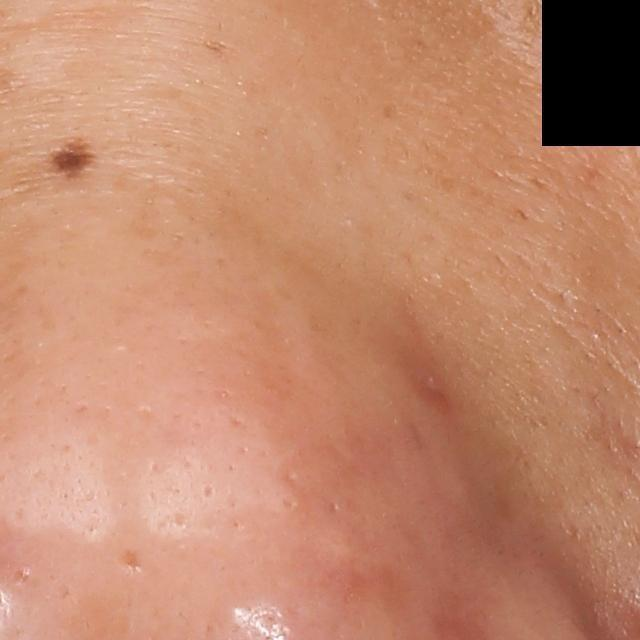atrophic_scar: (116, 548, 146, 572)
nevus: (45, 130, 93, 180)
